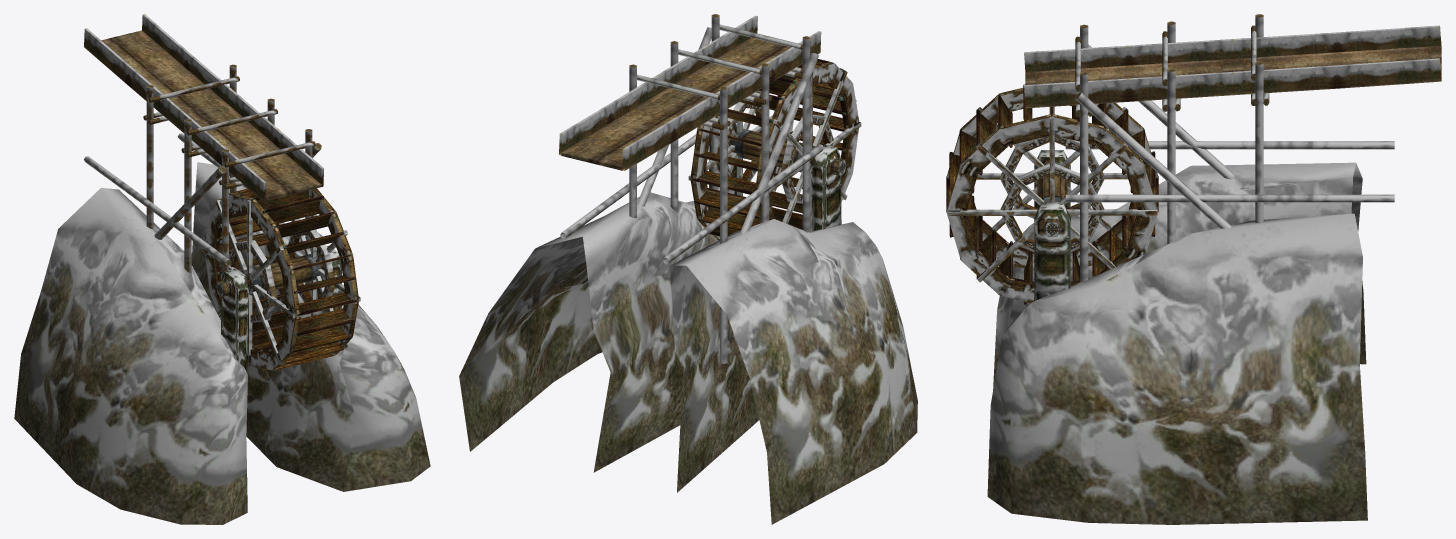
File: general_obj_watermill.fbx
3 renders of one model, left to right at view 1: azimuth 30°, elevation 25°; view 2: azimuth 150°, elevation 25°; view 3: azimuth 270°, elevation 25°, orthographic. The views are drawn at different scales.
Parts seen in each view (by area): view 1: Sphere01, Sphere02; view 2: Sphere01, Sphere02; view 3: Sphere01, Sphere02.
Part boxes in pixels (x1,y1,x2,y2): Sphere01: [14, 14, 430, 524]; Sphere02: [202, 188, 360, 370]; Sphere01: [459, 14, 917, 524]; Sphere02: [688, 59, 861, 240]; Sphere01: [987, 14, 1441, 524]; Sphere02: [946, 84, 1158, 304].
Bounding box in the file's own units: 19.15 × 20.54 × 23.05.
